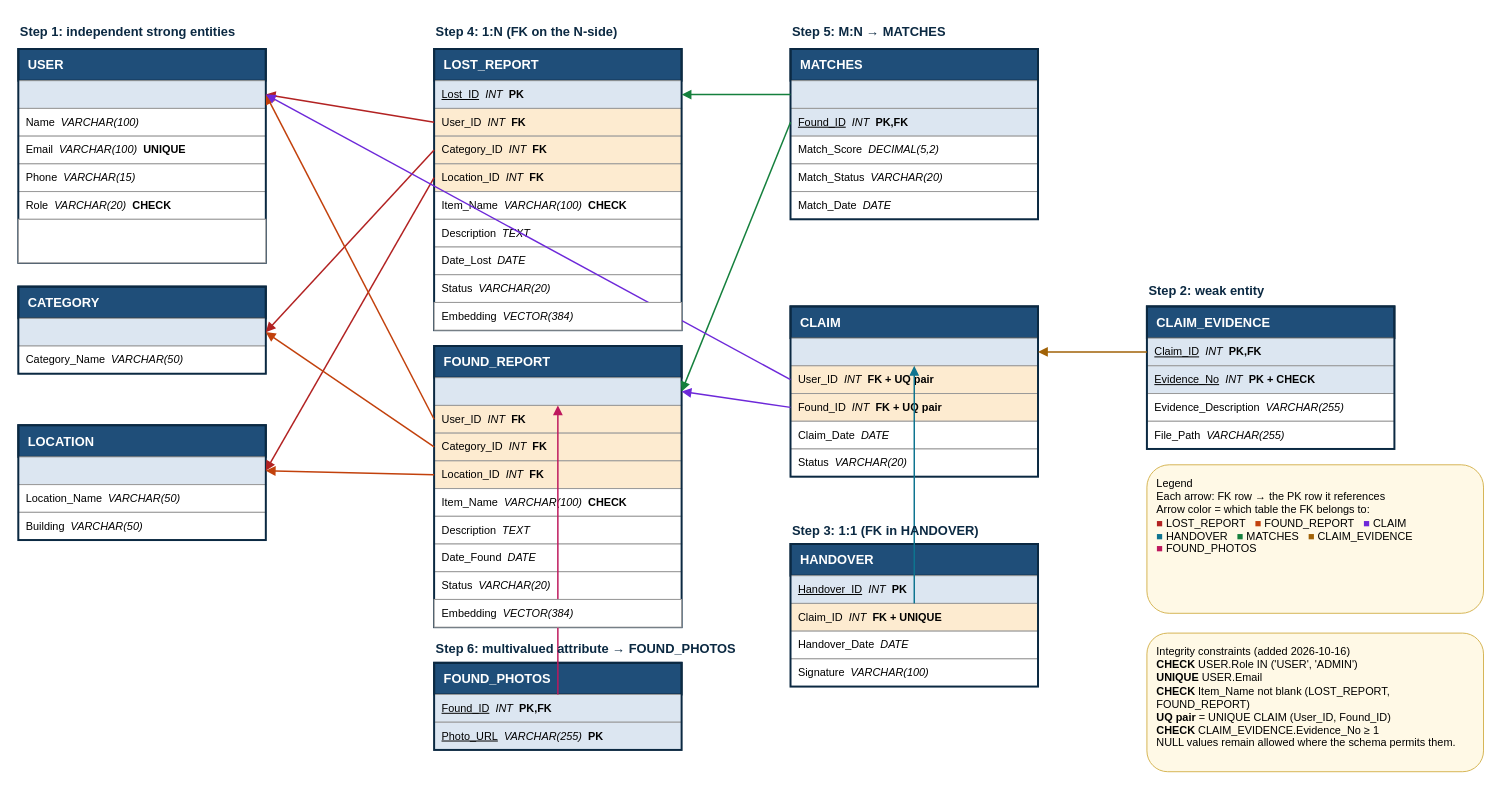
The diagram is 1501 pixels wide and 789 high, and some of its shapes have lost their labels. Here are the shapes that lost their labels. From the top down, the centre of each, then its label:
At [141,94]: "User_ID INT PK".
At [914,94]: "Lost_ID INT PK,FK".
At [141,240]: "Password_Hash VARCHAR(255) NOT NULL".
At [141,331]: "Category_ID INT PK".
At [914,351]: "Claim_ID INT PK".
At [557,391]: "Found_ID INT PK".
At [141,470]: "Location_ID INT PK".
